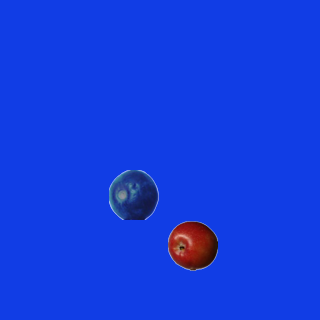Apple Braeburn: (167, 220, 217, 270)
Huckleberry: (108, 169, 158, 219)
